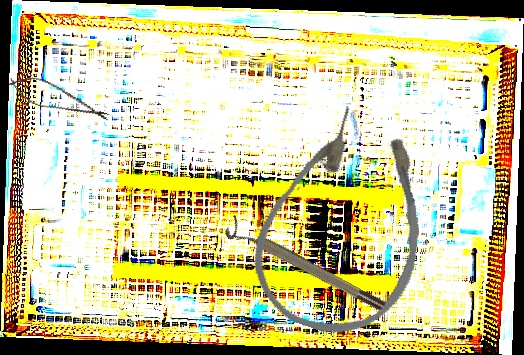Cannula: (234, 92, 459, 354)
Fixation Ring: (222, 214, 392, 323)
Micro Scissor: (3, 69, 115, 129)
